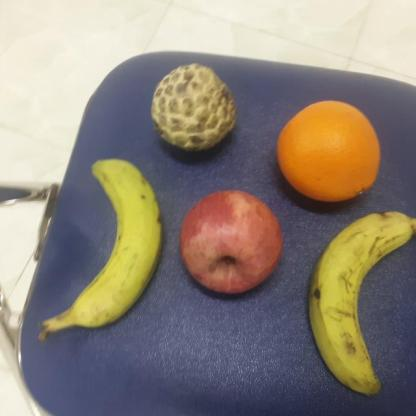annona: (147, 61, 238, 155)
apple: (176, 189, 284, 297)
banana: (306, 209, 408, 396), (66, 155, 166, 330)
orange: (276, 99, 384, 205)
